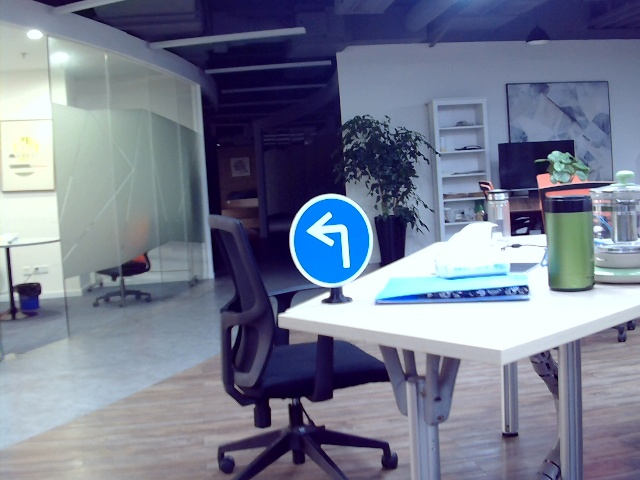turn_left: (308, 212, 353, 270)
